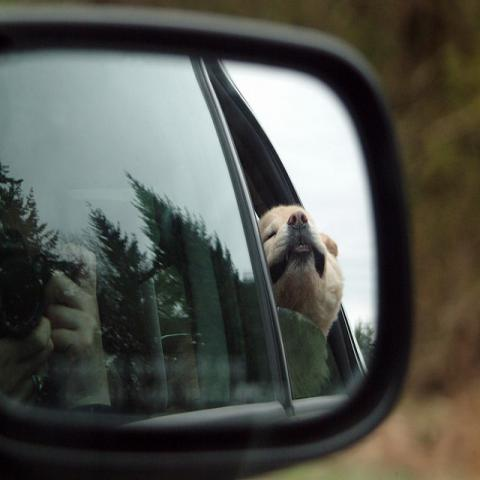car: (1, 0, 420, 479), (1, 36, 363, 429)
